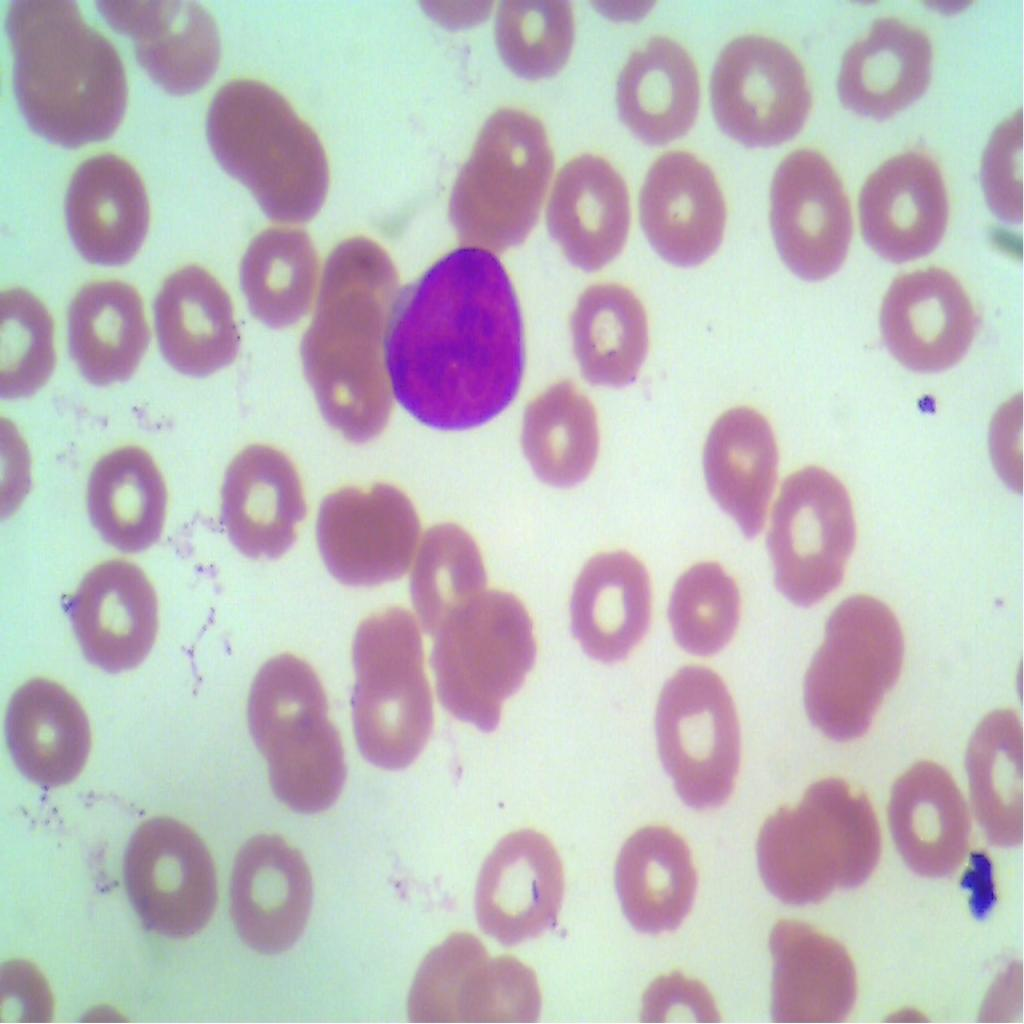Eritrosit: (6, 15, 142, 150), (119, 811, 223, 962), (643, 652, 743, 807), (226, 824, 333, 968), (551, 532, 663, 669), (0, 664, 110, 797), (434, 577, 544, 704), (311, 479, 426, 594), (211, 434, 308, 569), (599, 817, 703, 942), (62, 550, 168, 671), (711, 29, 818, 148), (763, 138, 854, 277), (59, 138, 154, 268), (764, 474, 859, 604), (882, 254, 986, 371), (634, 150, 728, 278), (695, 399, 784, 534), (466, 828, 566, 947), (836, 8, 936, 125), (58, 269, 149, 397), (606, 31, 710, 142), (399, 521, 493, 642), (153, 264, 253, 376), (886, 754, 973, 881), (791, 770, 882, 889), (86, 438, 174, 561), (573, 275, 658, 402), (353, 671, 448, 782), (241, 630, 323, 758), (550, 148, 636, 268), (201, 64, 288, 180), (863, 150, 954, 260), (506, 385, 601, 482), (133, 0, 229, 95), (770, 918, 856, 1023), (256, 120, 335, 234), (298, 241, 401, 328), (800, 637, 882, 744), (0, 284, 68, 412), (266, 718, 356, 814), (238, 218, 316, 328), (306, 337, 386, 444), (468, 109, 558, 204), (668, 558, 754, 657), (818, 591, 906, 685), (404, 927, 489, 1023), (338, 602, 422, 698), (966, 702, 1024, 841), (448, 154, 526, 257), (488, 0, 582, 77), (762, 808, 836, 902)
Limfoblast: (373, 242, 529, 444)
Platelet: (906, 372, 958, 435)
